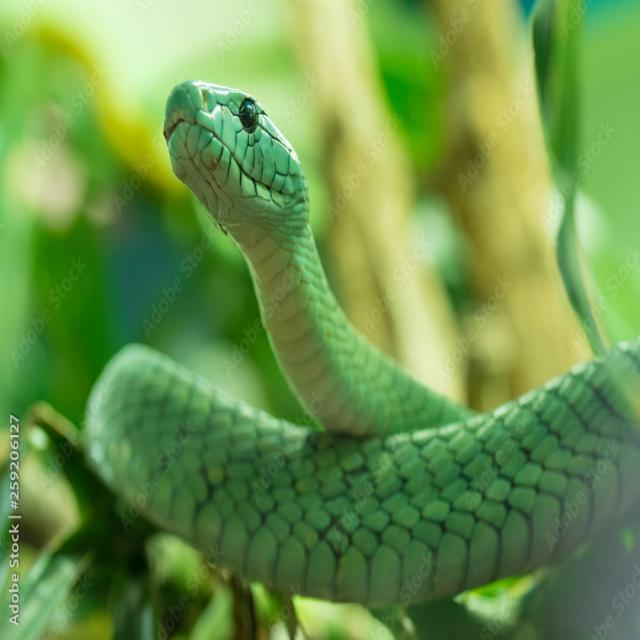Snake: (77, 60, 640, 622)
